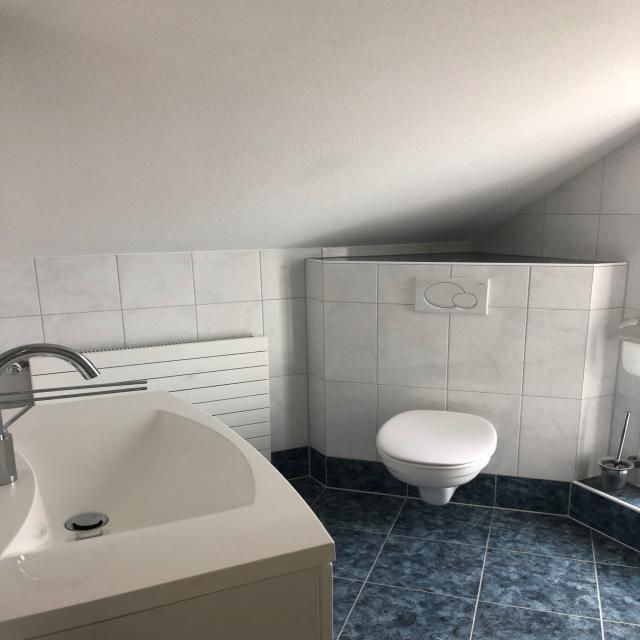toilet: (378, 275, 498, 507)
wastafel: (0, 340, 337, 640), (0, 554, 335, 640)
